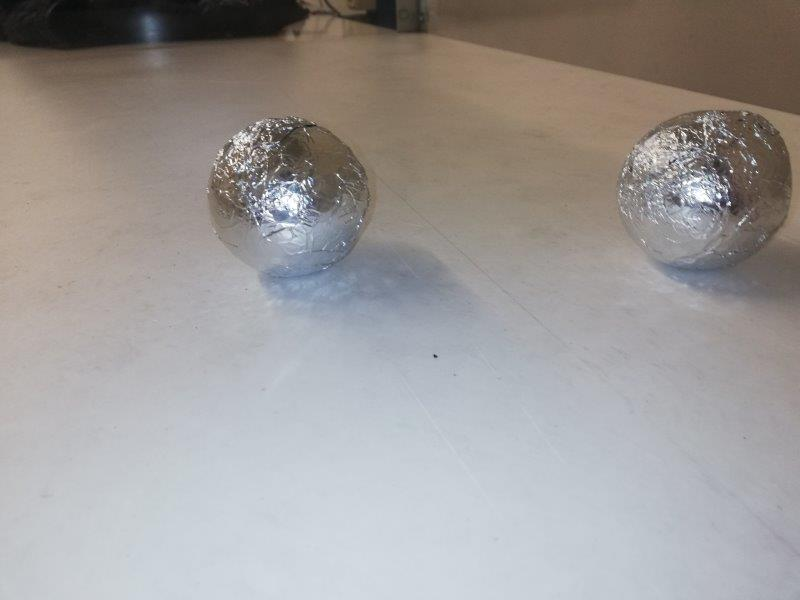bianca: (617, 106, 791, 274), (207, 116, 370, 279)
